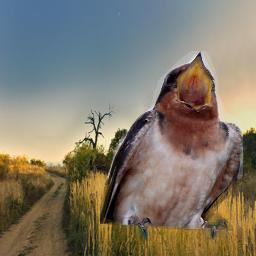Swallow: (100, 51, 243, 241)
